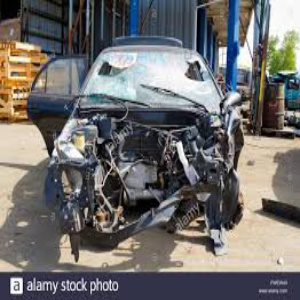bumper: (59, 125, 206, 207)
front_windshield_glass: (84, 52, 215, 107)
